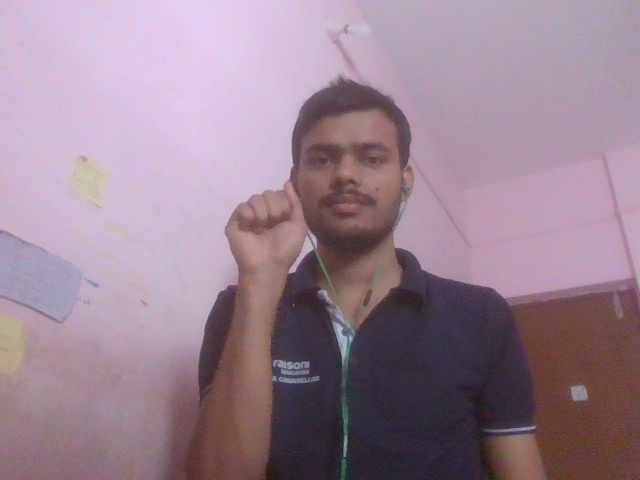Yes: (181, 135, 372, 356)
